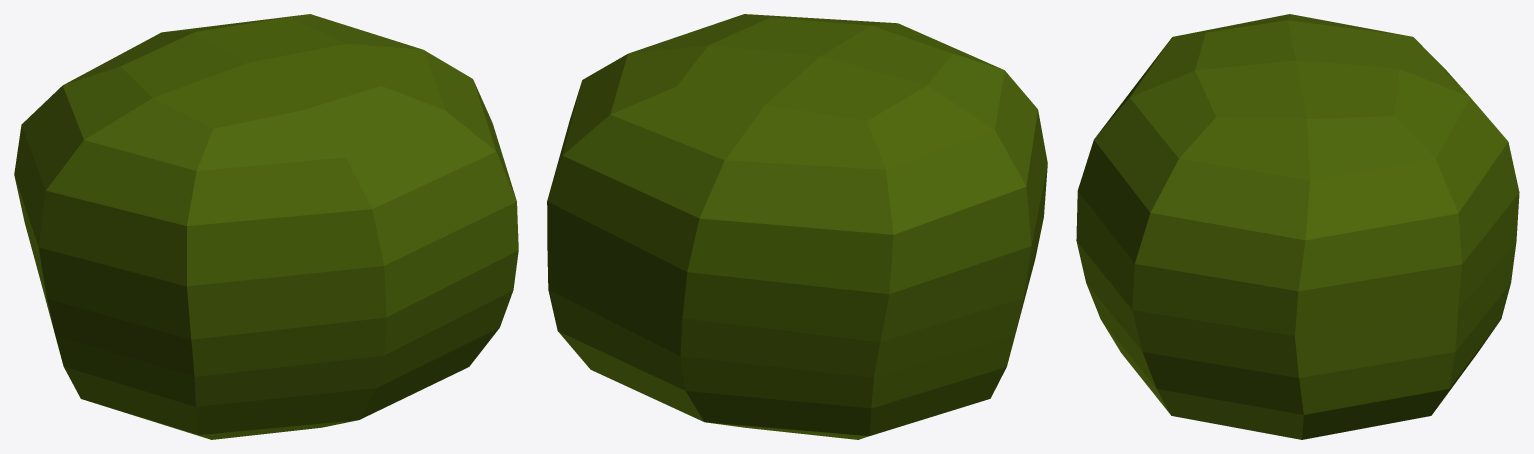
Rendered from ArbustoNormal.fbx.
The picture shows the model from 3 angles, left to right: view 1: azimuth 30°, elevation 25°; view 2: azimuth 150°, elevation 25°; view 3: azimuth 270°, elevation 25°; orthographic projection. The views are drawn at different scales.
Parts seen in each view (by area): view 1: Cube; view 2: Cube; view 3: Cube.
Part boxes in pixels (left/top/right/bottom): Cube: left=14, top=14, right=518, bottom=439; Cube: left=547, top=14, right=1047, bottom=439; Cube: left=1076, top=14, right=1519, bottom=439.
Size of the model in its own units: 277 by 194 by 244.
